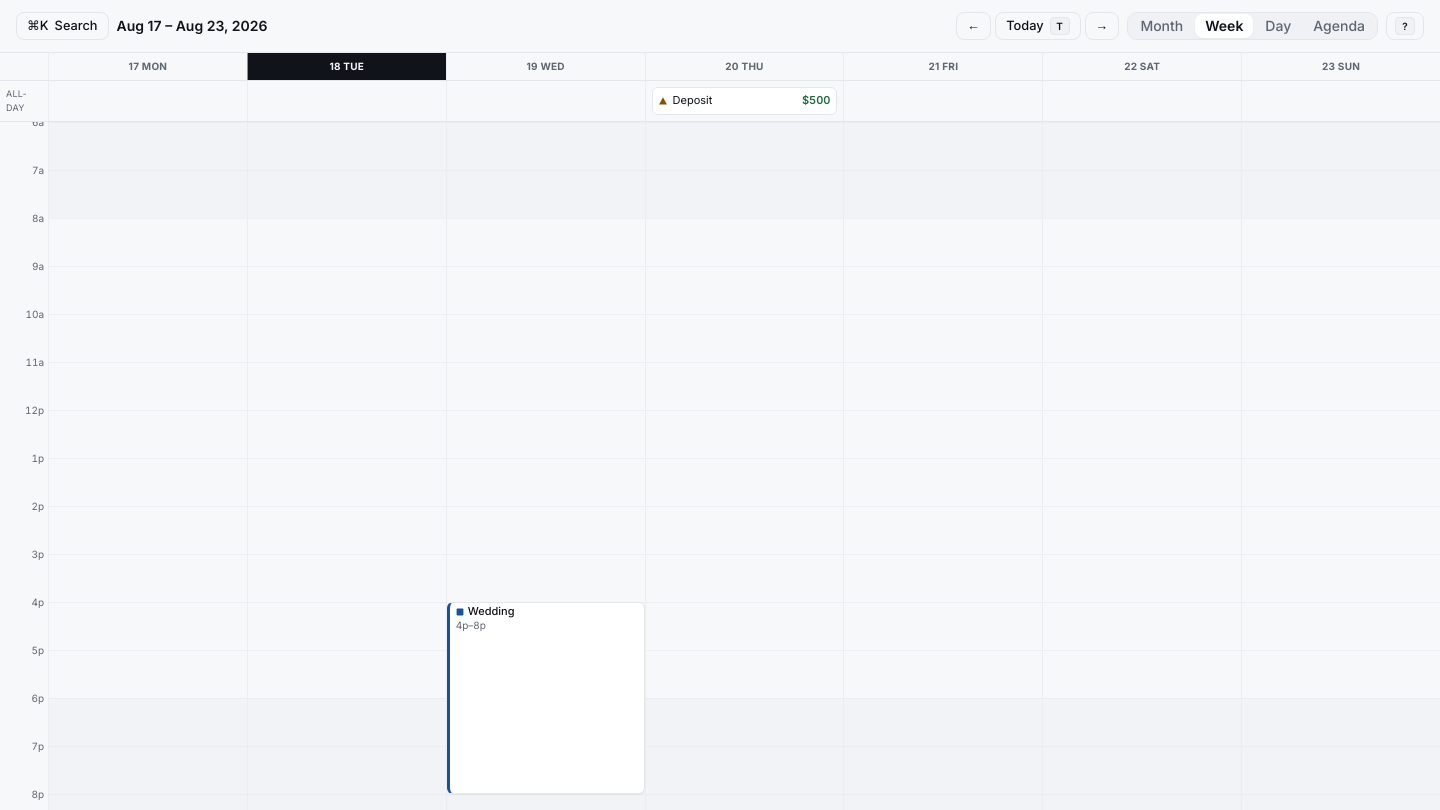
Scenario: CalendarCanvas › offers a visible ? affordance in the toolbar for pointer users
Expected: the text "?" is shown, [1395,17,1415,35]
Click the button named "keyboard shortcuts" at (1405, 26), box [1386,12,1424,40]
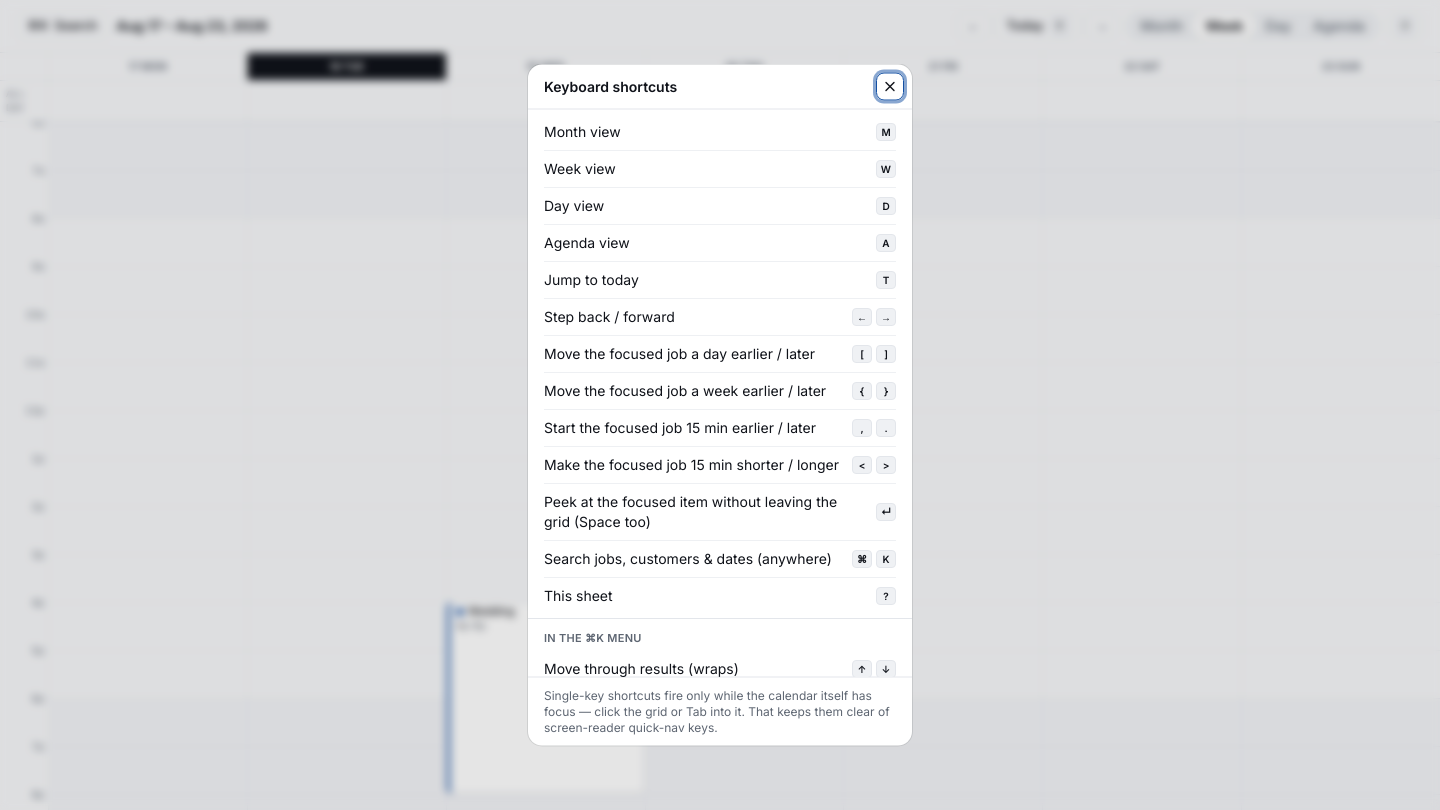
Expected: the dialog "Keyboard shortcuts" is shown, [528,64,912,746]
